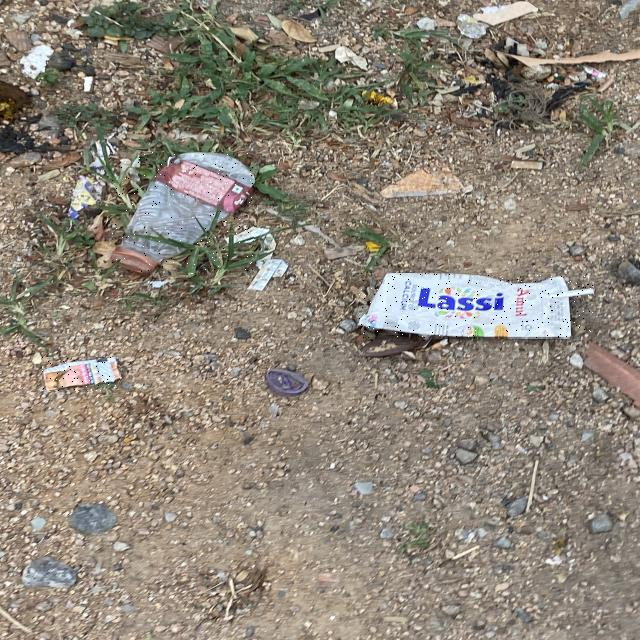paper: (359, 274, 593, 338), (43, 358, 120, 391)
plastic: (110, 153, 254, 274)
